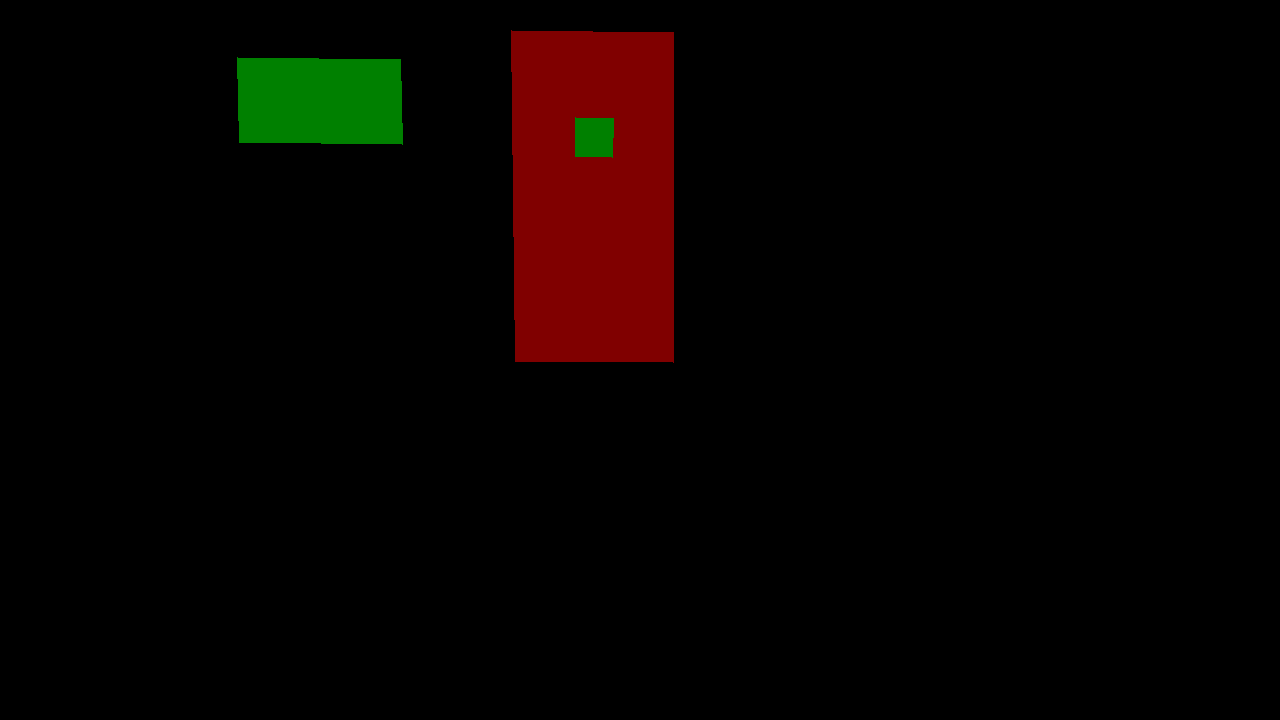door: (511, 30, 673, 362)
sign: (237, 57, 402, 144), (575, 117, 613, 157)
